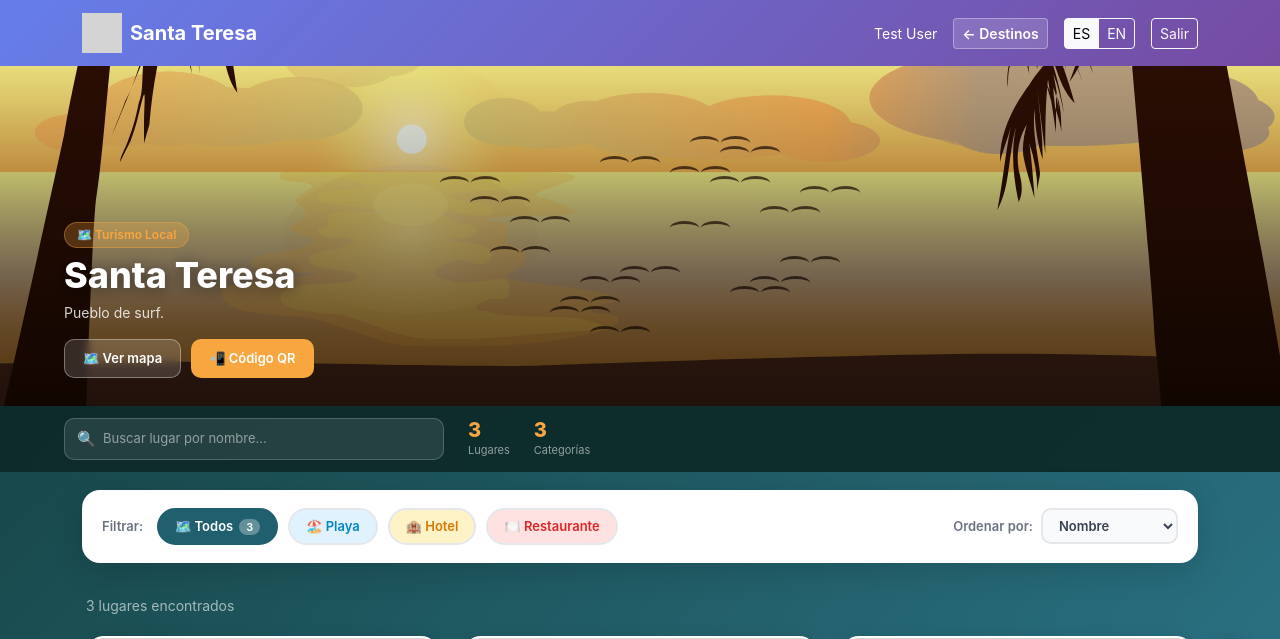
Test case: PlacesPage › category filter › filters places by category when clicking a category pill and updates URL
Click the button "🏖️ Playa" at (333, 526), box 288,508 -> 378,545
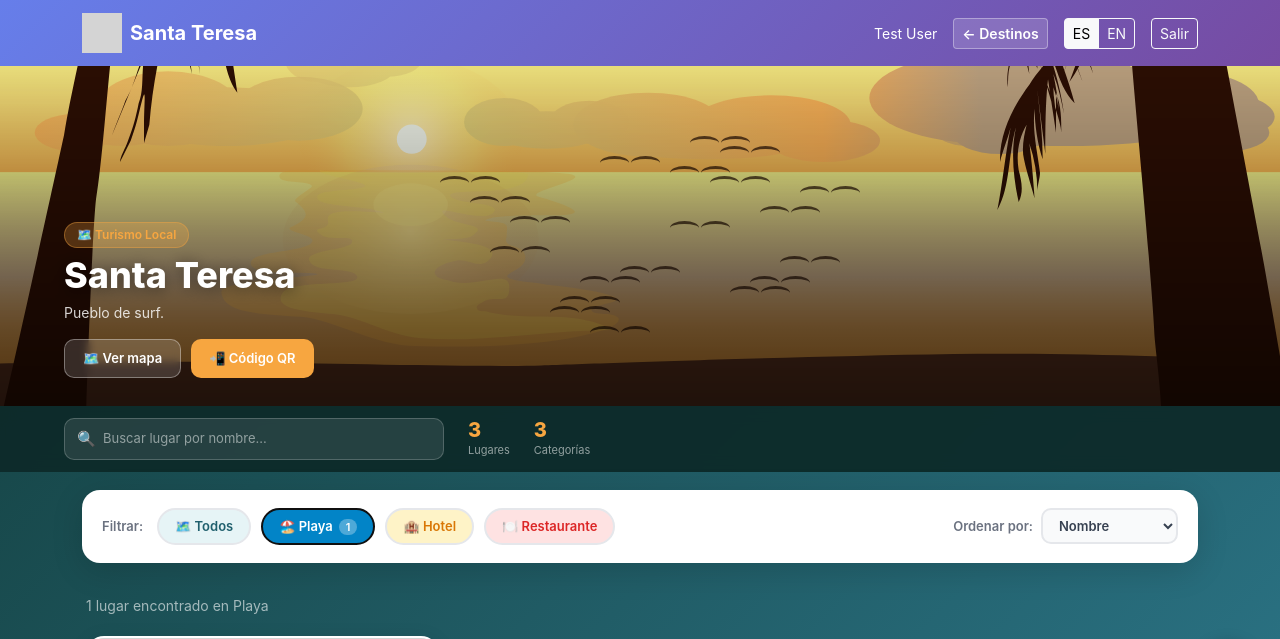
Now the text "1 lugar encontrado en Playa" is shown, box 86,597 -> 269,614
